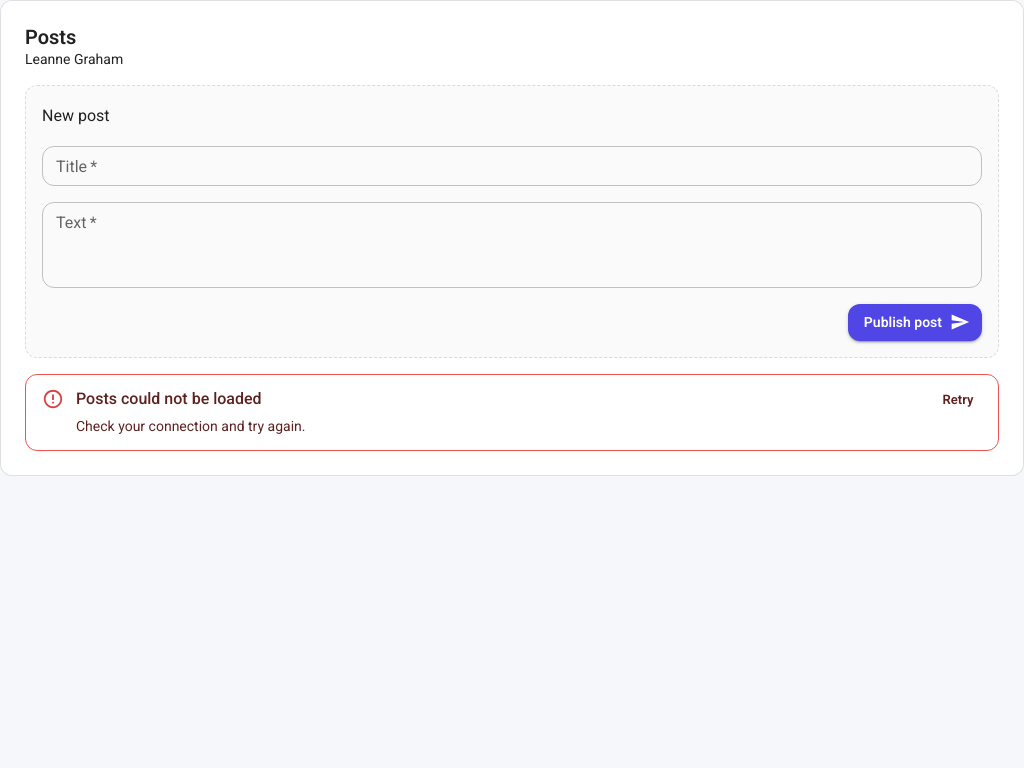
it: PostsPanel post creation › shows the created post although the posts of the user could not be loaded
Expected: the message "Posts could not be loaded Check your connection and try again. Retry" is shown, [25,374,999,451]
Type "Post after error" into the field with test id "new-post-title-input".
click(512, 166); type("Post after error")  # box [42,146,982,186]
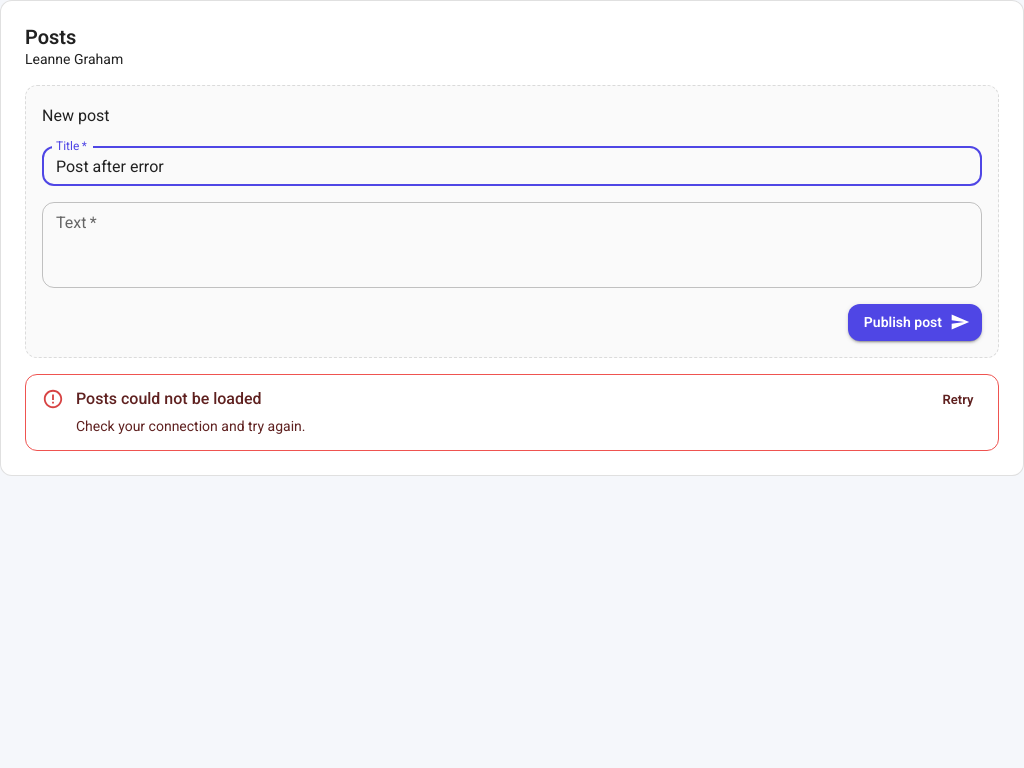
Type "Still visible" into the text box with test id "new-post-body-input".
click(512, 245); type("Still visible")  # box [56,210,968,280]
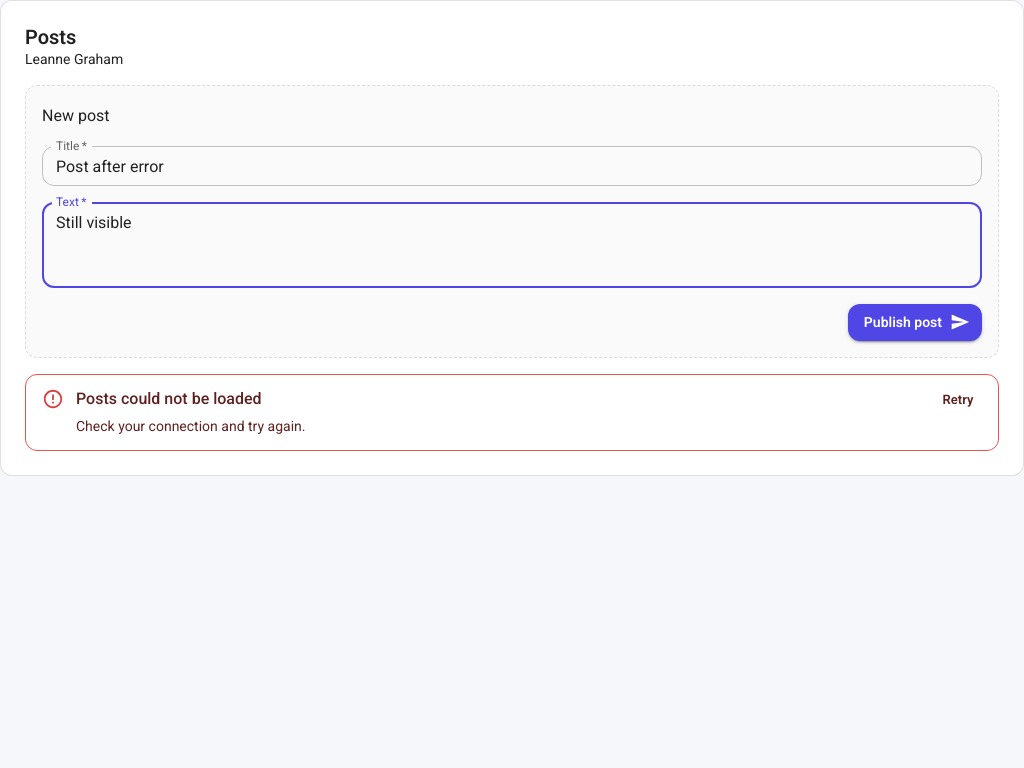
Click the button with test id "new-post-submit".
click(915, 322)  # box [848,304,982,340]
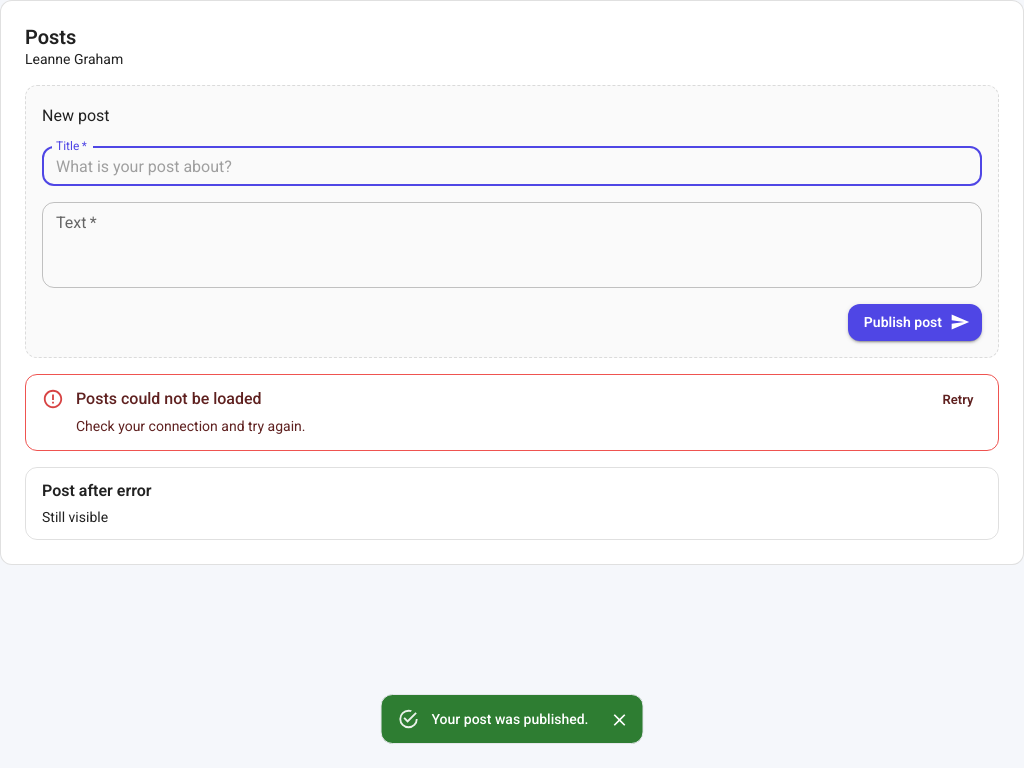
Expected: the message "Posts could not be loaded Check your connection and try again. Retry" is shown, [25,374,999,451]
Expected: the message "Your post was published." is shown, [380,694,644,744]
Expected: the element with test id "post-card" shows "Post after error", [42,481,152,500]
